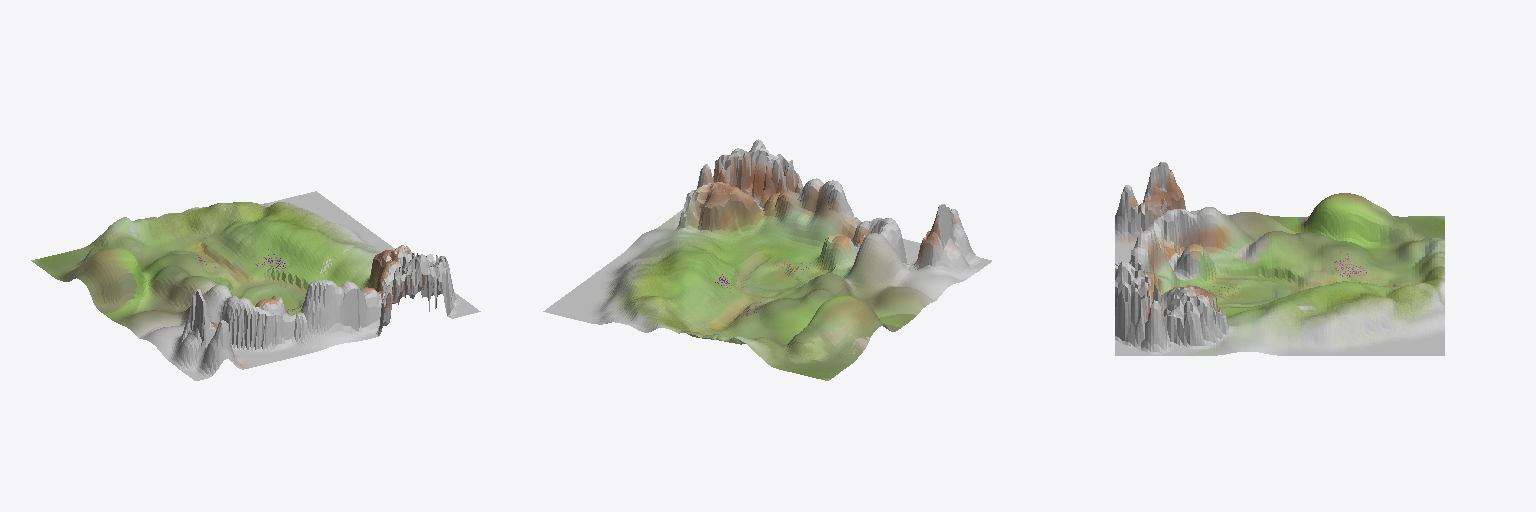
3 renders of one model, left to right at view 1: azimuth 30°, elevation 25°; view 2: azimuth 150°, elevation 25°; view 3: azimuth 270°, elevation 25°, orthographic.
Parts seen in each view (by area): view 1: Plane; view 2: Plane; view 3: Plane.
Part boxes in pixels (x1,y1,x2,y2): Plane: (31, 191, 480, 380); Plane: (543, 139, 991, 380); Plane: (1115, 162, 1444, 355).
Bounding box in the file's own units: 99.85 × 24.75 × 99.85.
Materials: 1 (1 with a texture image).